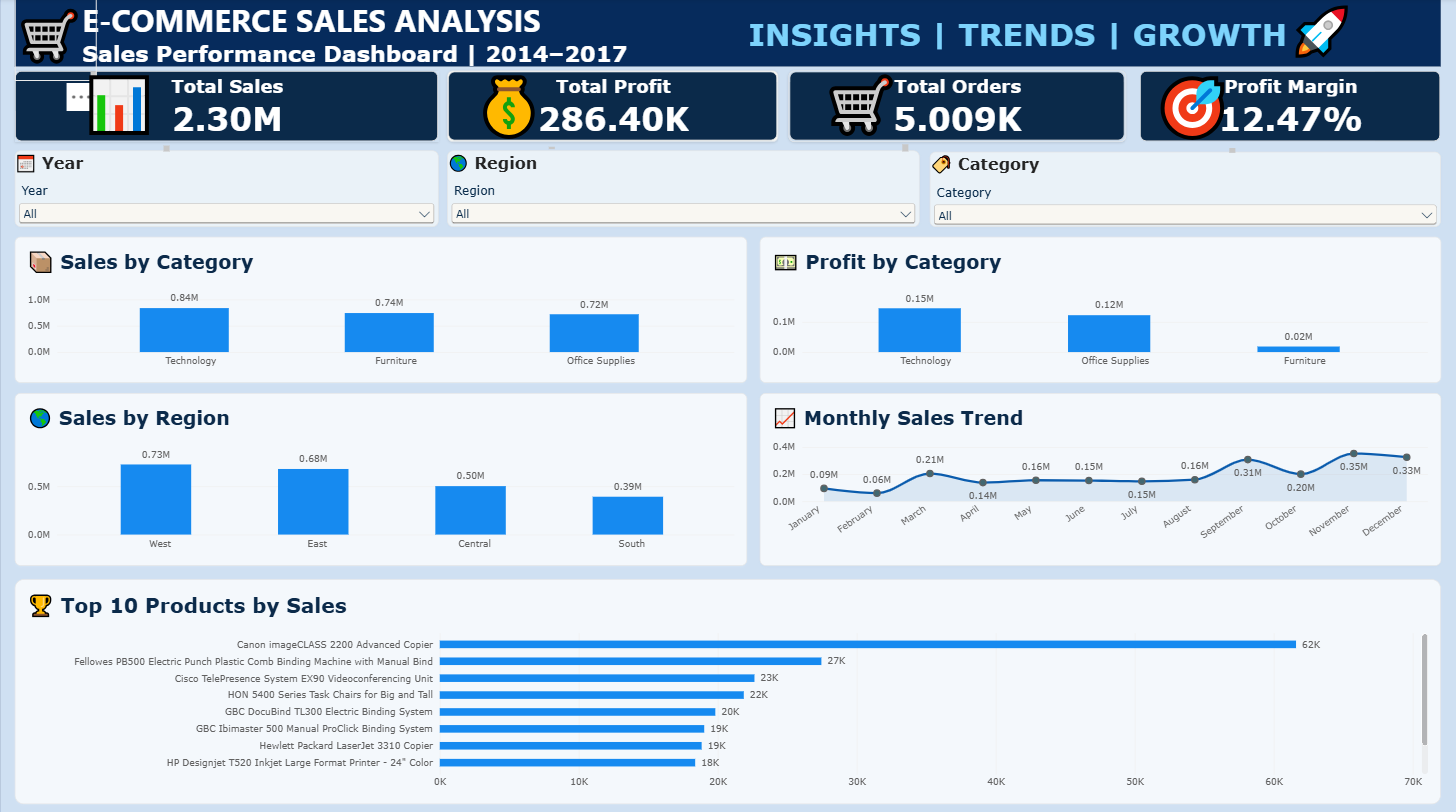

The dashboard page shown, as its layout file describes it:
{"tool":"powerbi","page":{"name":"Page 1","canvas":[1920,1080],"ordinal":0},"visuals":[{"type":"cardVisual","fields":{"Data":["Sum(Cleaned_Superstore.Sales)"]},"box":[18.1,95.7,559.1,94],"z":0},{"type":"cardVisual","fields":{"Data":["Sum(Cleaned_Superstore.Profit)"]},"box":[588.8,95.7,437.1,94],"z":1000},{"type":"cardVisual","fields":{"Data":["Count(Cleaned_Superstore.Order ID)"]},"box":[1039.1,95.7,445.3,94],"z":2000},{"type":"clusteredColumnChart","title":"📦  Sales by Category","fields":{"Category":["Cleaned_Superstore.Category"],"Y":["Sum(Cleaned_Superstore.Sales)"]},"box":[18.1,315,966.5,193],"z":3000},{"type":"clusteredColumnChart","title":"💵 Profit by Category","fields":{"Category":["Cleaned_Superstore.Category"],"Y":["Sum(Cleaned_Superstore.Profit)"]},"box":[1001.2,315,898.9,193],"z":4000},{"type":"clusteredColumnChart","title":"🌎 Sales by Region","fields":{"Category":["Cleaned_Superstore.Region"],"Y":["Sum(Cleaned_Superstore.Sales)"]},"box":[18.1,521.2,966.5,227.6],"z":5000},{"type":"lineChart","title":"📈 Monthly Sales Trend","fields":{"Category":["Cleaned_Superstore.Month"],"Y":["Sum(Cleaned_Superstore.Sales)"]},"box":[1001.2,521.2,898.9,227.6],"z":6000},{"type":"slicer","title":"📅 Year","fields":{"Values":["Cleaned_Superstore.Year"]},"box":[18.1,201.2,559.1,100.6],"z":7000},{"type":"slicer","title":"🌎 Region","fields":{"Values":["Cleaned_Superstore.Region"]},"box":[588.8,201.2,623.5,100.6],"z":8000},{"type":"slicer","title":"🏷️ Category","fields":{"Values":["Cleaned_Superstore.Category"]},"box":[1225.5,202.9,674.6,99],"z":9000},{"type":"shape","box":[18.1,0,1881.9,90.7],"z":10000},{"type":"textbox","title":"E-COMMERCE SALES ANALYSIS","box":[107.2,0,1704.1,59.3],"z":11000},{"type":"textbox","title":"Sales Performance Dashboard | 2014–2017","box":[107.2,54.4,1704.1,41.9],"z":12000},{"type":"barChart","title":"🏆 Top 10 Products by Sales","fields":{"Category":["Cleaned_Superstore.Product Name"],"Y":["Sum(Cleaned_Superstore.Sales)"]},"box":[18.1,767,1881.9,296.9],"z":13000},{"type":"cardVisual","fields":{"Data":["Cleaned_Superstore.Profit Margin"]},"box":[1502.6,95.7,397.5,94],"z":14000},{"type":"textbox","title":"🛒","box":[18.1,0,108.1,109.9],"z":15000},{"type":"textbox","title":"📊","box":[107.2,87.4,115.5,115.5],"z":16000},{"type":"textbox","title":"💰","box":[626.8,89.1,103.9,110.5],"z":17000},{"type":"textbox","title":"🛒","box":[1083.6,85.8,113.4,116.9],"z":18000},{"type":"textbox","title":"🎯","box":[1520.7,90.7,108.1,113.4],"z":19000},{"type":"textbox","title":"INSIGHTS | TRENDS | GROWTH      ","box":[985.7,23.2,739.3,44.6],"z":20000},{"type":"textbox","title":"🚀","box":[1700.6,0,145.1,110.5],"z":21000}]}

Visuals, with their boxes in screenshot pixels (x1, y1, x2, y2), scaled from the page's 1920x1080 canvas onto the 1456x812 screenshot:
cardVisual - Sum(Cleaned_Superstore.Sales): select_region(14, 72, 438, 143)
cardVisual - Sum(Cleaned_Superstore.Profit): select_region(447, 72, 778, 143)
cardVisual - Count(Cleaned_Superstore.Order ID): select_region(788, 72, 1126, 143)
"📦  Sales by Category" clusteredColumnChart: select_region(14, 237, 747, 382)
"💵 Profit by Category" clusteredColumnChart: select_region(759, 237, 1441, 382)
"🌎 Sales by Region" clusteredColumnChart: select_region(14, 392, 747, 563)
"📈 Monthly Sales Trend" lineChart: select_region(759, 392, 1441, 563)
"📅 Year" slicer: select_region(14, 151, 438, 227)
"🌎 Region" slicer: select_region(447, 151, 919, 227)
"🏷️ Category" slicer: select_region(929, 153, 1441, 227)
shape: select_region(14, 0, 1441, 68)
"E-COMMERCE SALES ANALYSIS" textbox: select_region(81, 0, 1374, 45)
"Sales Performance Dashboard | 2014–2017" textbox: select_region(81, 41, 1374, 72)
"🏆 Top 10 Products by Sales" barChart: select_region(14, 577, 1441, 800)
cardVisual - Cleaned_Superstore.Profit Margin: select_region(1139, 72, 1441, 143)
"🛒" textbox: select_region(14, 0, 96, 83)
"📊" textbox: select_region(81, 66, 169, 153)
"💰" textbox: select_region(475, 67, 554, 150)
"🛒" textbox: select_region(822, 65, 908, 152)
"🎯" textbox: select_region(1153, 68, 1235, 153)
"INSIGHTS | TRENDS | GROWTH      " textbox: select_region(747, 17, 1308, 51)
"🚀" textbox: select_region(1290, 0, 1400, 83)
